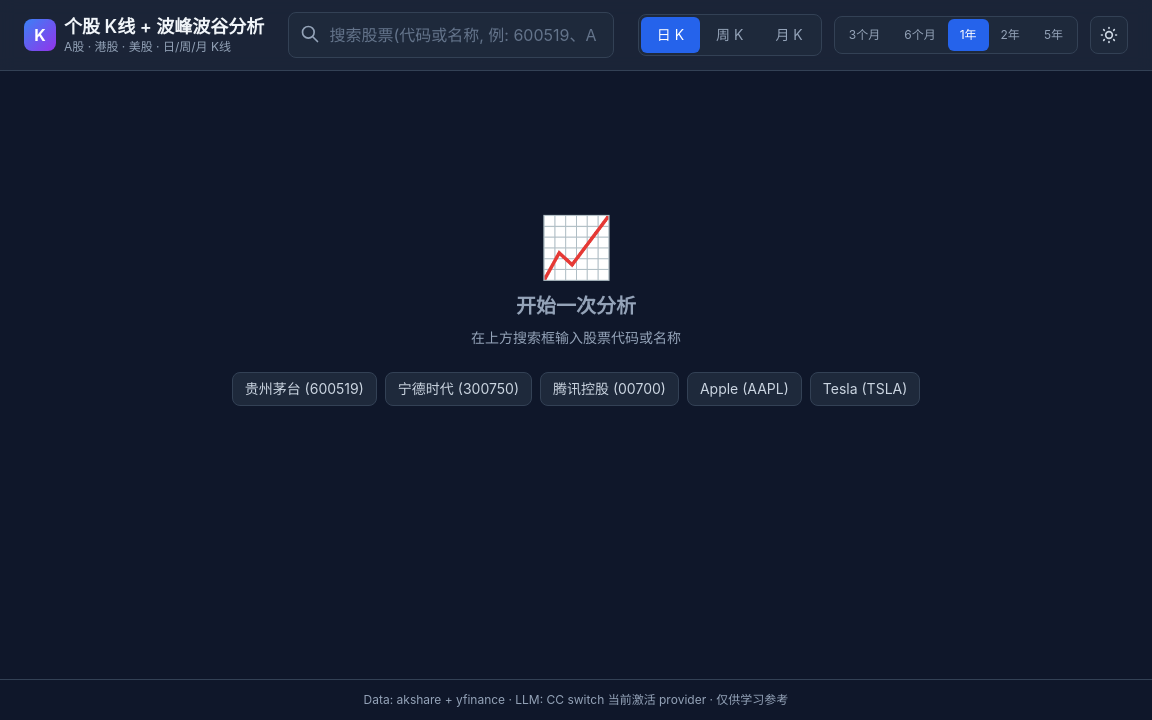
App.integration — HIGH coverage paths › refresh button disabled during loading › refresh button is disabled while fetchHistory is in flight
Click the button "Apple (AAPL)": (744, 389) [687, 372, 802, 406]
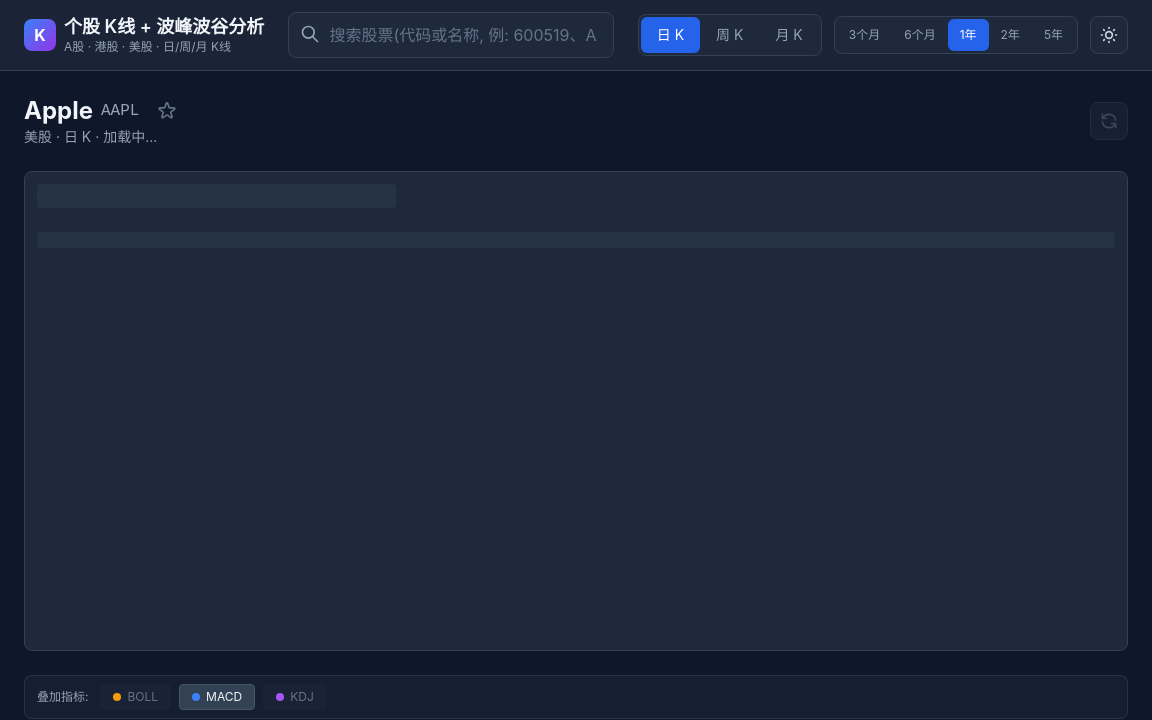
Expected: the button named "刷新数据" is disabled, [1090, 102, 1128, 140]
